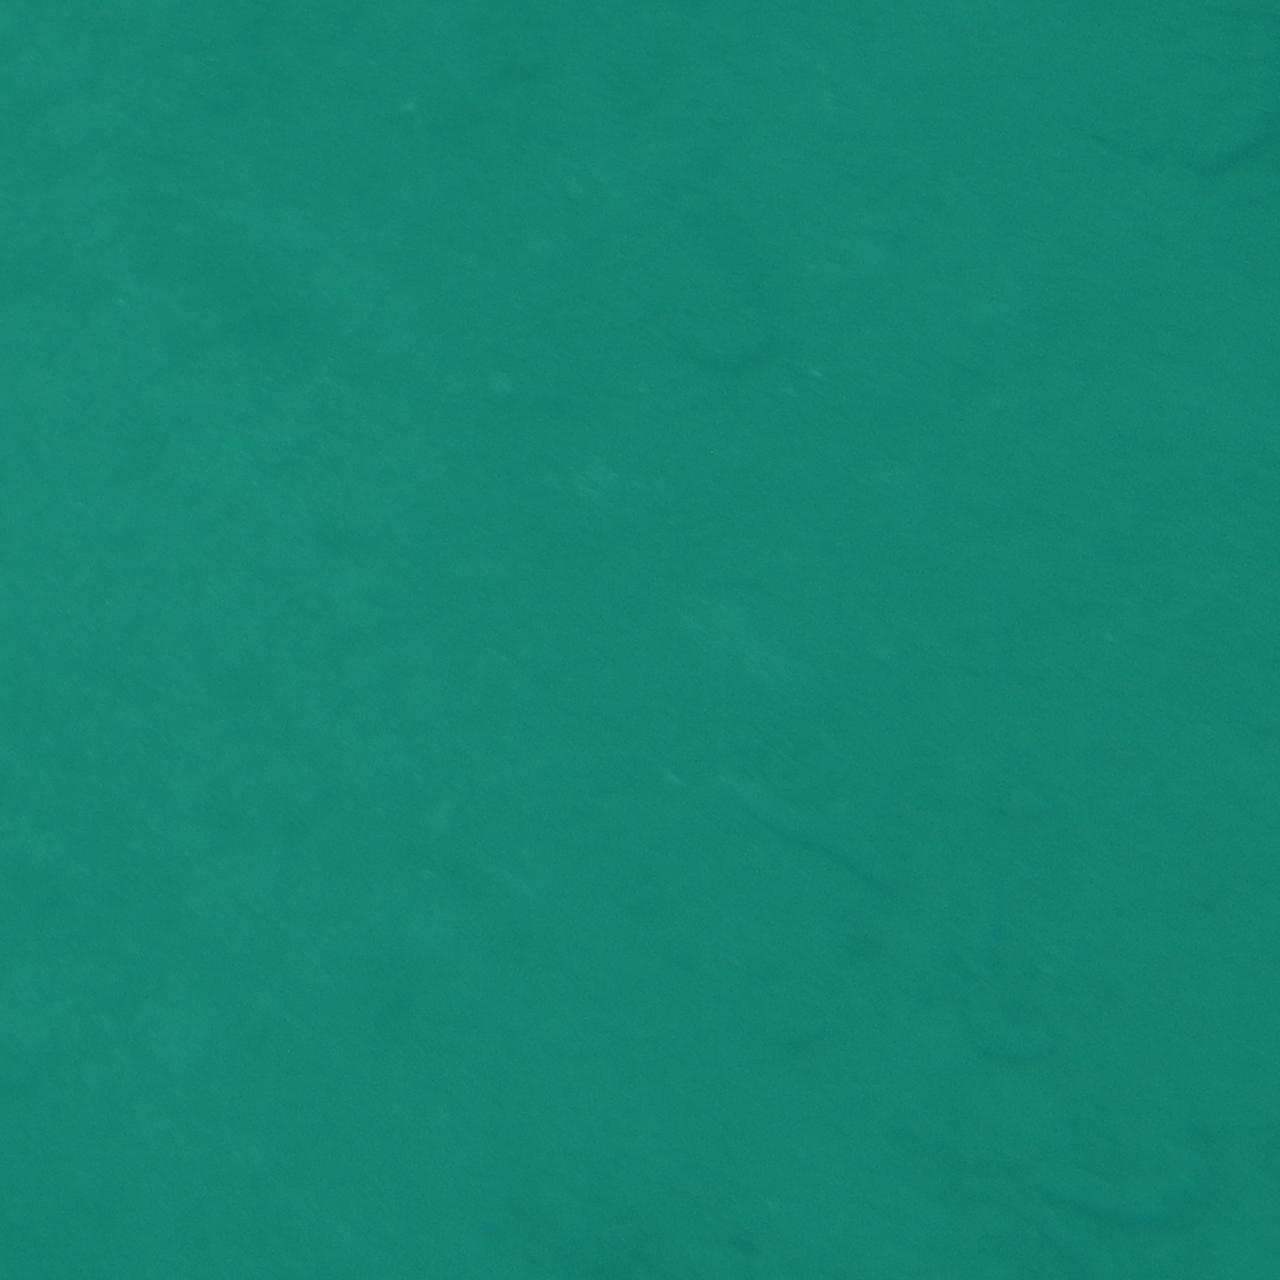Holothuria tubulosa: (661, 147, 812, 411), (964, 1114, 1246, 1254), (1105, 0, 1280, 203), (733, 772, 940, 930), (0, 1040, 182, 1190)
